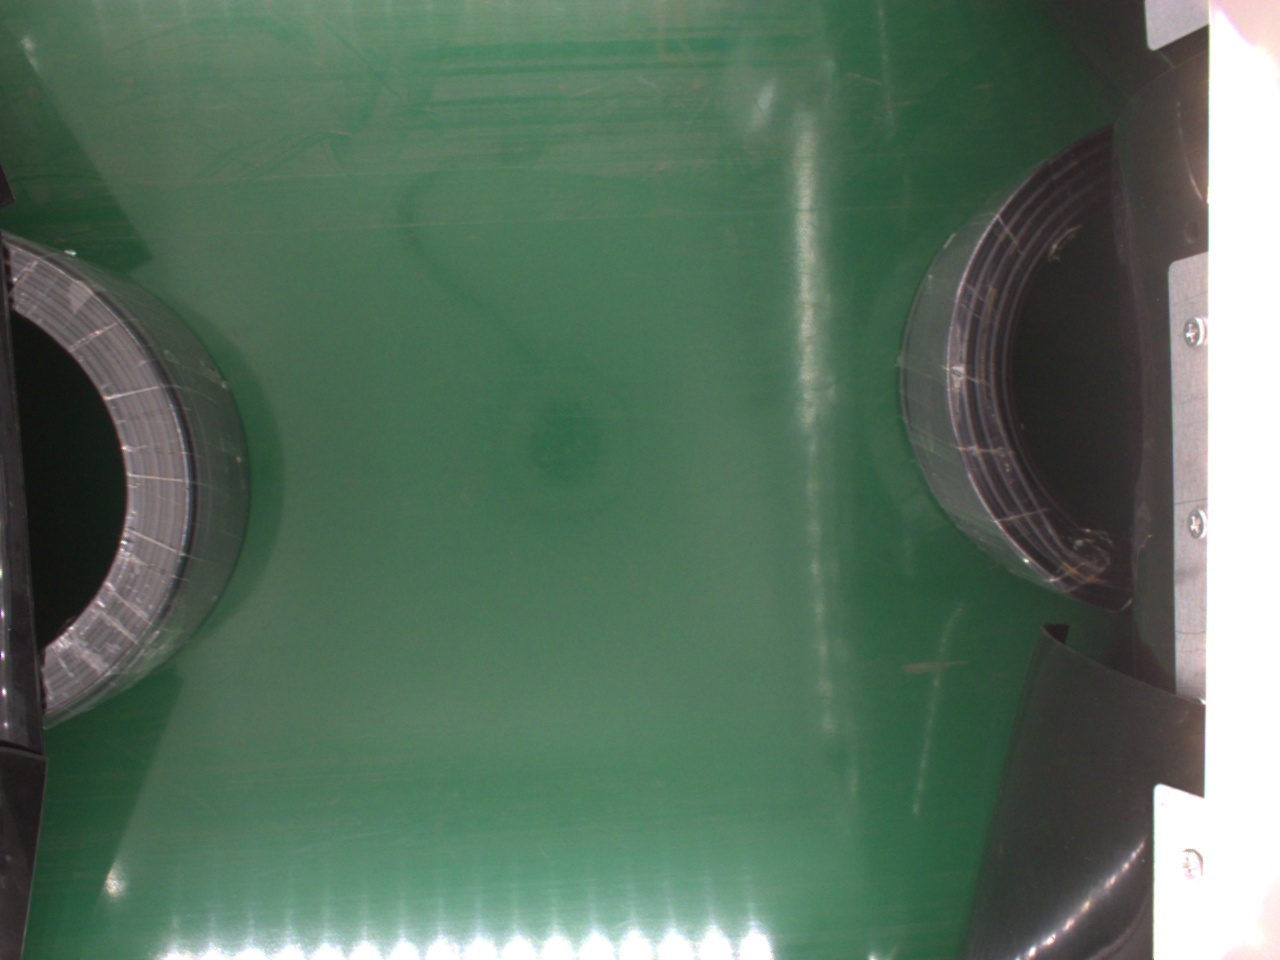black: (8, 235, 253, 726), (900, 125, 1127, 614)
